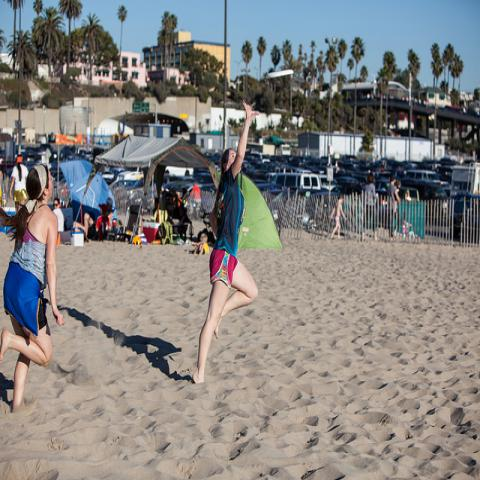car: (18, 145, 446, 201), (270, 172, 322, 198), (401, 171, 442, 185), (245, 163, 278, 179), (167, 166, 207, 178), (336, 168, 359, 186), (317, 174, 340, 192), (373, 179, 391, 200), (436, 166, 452, 184), (305, 161, 327, 173), (257, 184, 284, 191), (342, 155, 358, 162), (440, 159, 455, 166), (281, 164, 289, 171)
truck: (449, 162, 479, 240)
